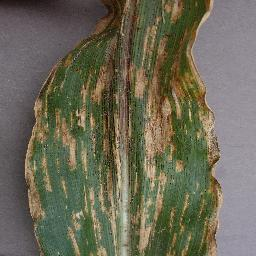Gray_Leaf_Spot: (87, 0, 222, 256), (23, 97, 50, 256), (64, 37, 87, 171), (50, 53, 63, 171), (62, 198, 86, 256), (37, 74, 51, 98), (59, 178, 68, 198)
